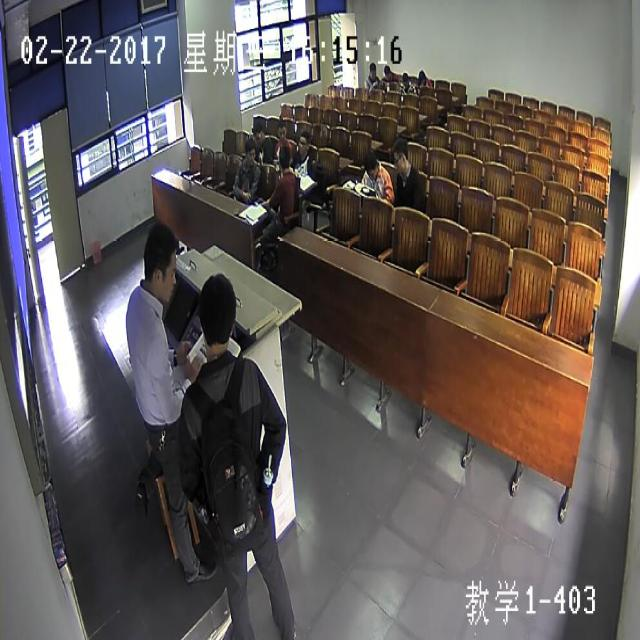person: (197, 271, 234, 355), (142, 219, 175, 299), (393, 138, 407, 174), (365, 152, 377, 177), (253, 121, 264, 146), (298, 128, 307, 154), (245, 140, 254, 165), (279, 144, 288, 168), (277, 120, 286, 142), (369, 61, 375, 80), (383, 65, 390, 79), (418, 70, 424, 86), (402, 72, 408, 85)
